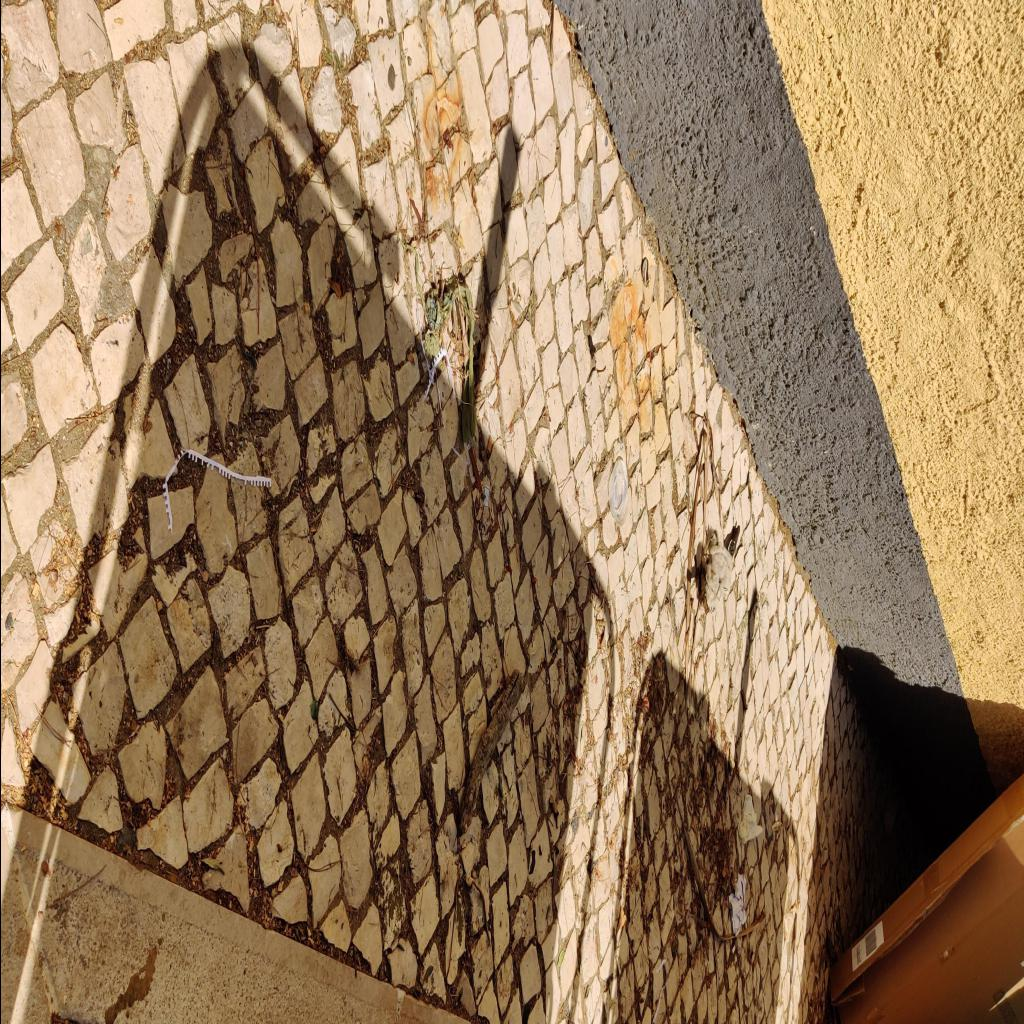Cigarette: (486, 435, 492, 456)
Corrugated carton: (829, 773, 1023, 1024)
Metal bottle cap: (641, 258, 648, 282)
Normal paper: (161, 448, 271, 530), (414, 294, 454, 406), (727, 875, 745, 935)
Plastic lid: (608, 460, 628, 526)
Tissues: (737, 794, 762, 840)
Unlabeled litter: (704, 541, 730, 615), (484, 486, 488, 508)
